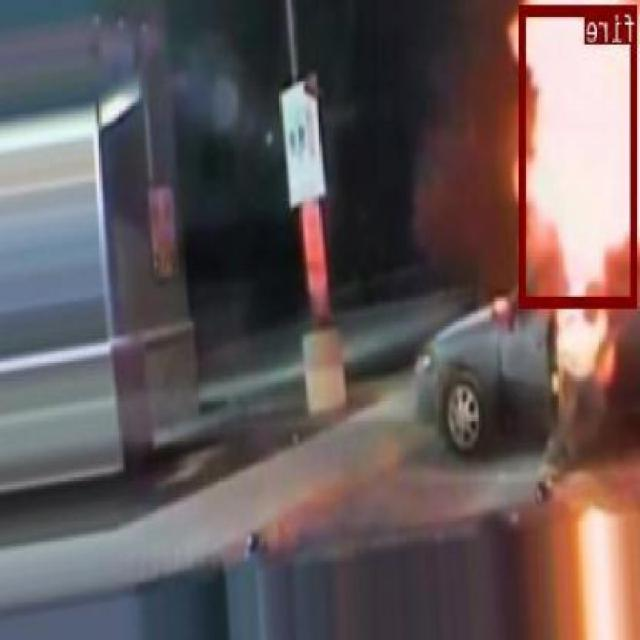Fire: (520, 4, 637, 307)
